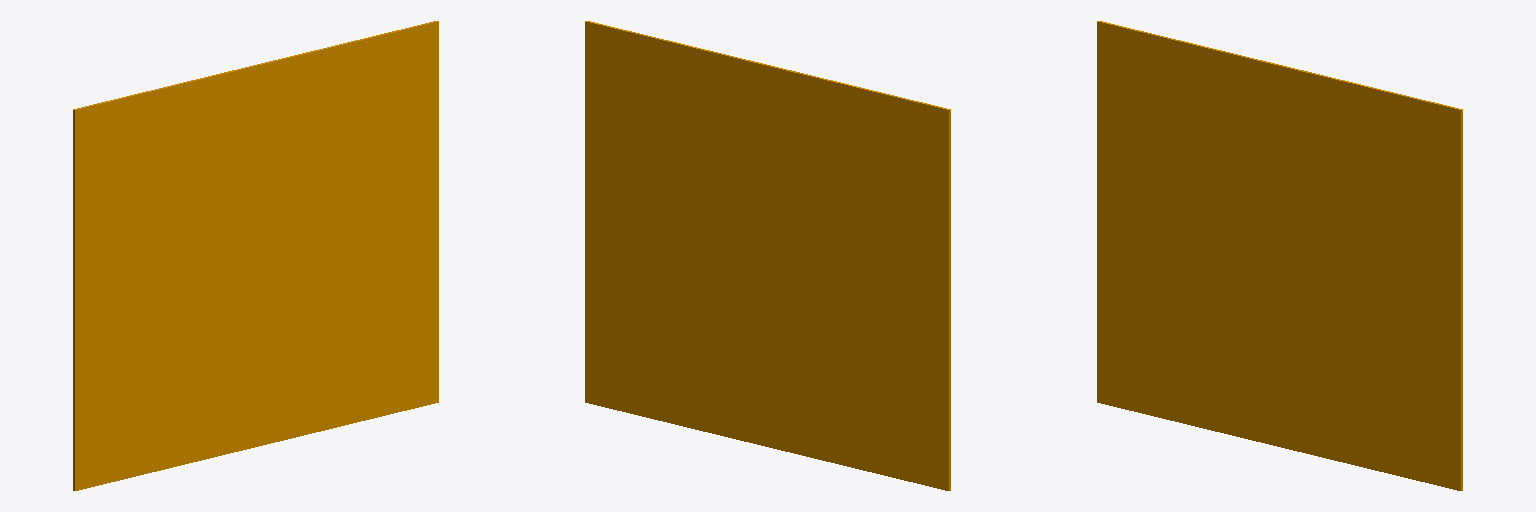
robot.urdf — right_wall:
<?xml version='1.0' encoding='UTF-8'?>
<robot name="right_wall">
  <link name="base_link">
    <inertial>
      <origin xyz="0.0 0.0 0.0" rpy="0.0 -0.0 0.0"/>
      <mass value="1.0"/>
      <inertia ixx="1.0" ixy="0.0" ixz="0.0" iyy="1.0" iyz="0.0" izz="1.0"/>
    </inertial>
    <visual name="base_link_visual">
      <geometry>
        <box size="16 0.1 16"/>
      </geometry>
      <origin xyz="0 0 0" rpy="0 0 3.14159"/>
    </visual>
    <collision name="base_link_collision">
      <geometry>
        <box size="16 0.1 16"/>
      </geometry>
      <origin xyz="0 0 0" rpy="0 0 3.14159"/>
    </collision>
  </link>
</robot>

--- Render facts (derived) ---
Views: 3 orthographic renders of the robot side by side, from view 1: azimuth 30°, elevation 25°; view 2: azimuth 150°, elevation 25°; view 3: azimuth 330°, elevation 25°.
Model right_wall with 1 links and 0 joints (none), rooted at base_link, posed all joints at 0.
Links seen in each view (by area): view 1: base_link; view 2: base_link; view 3: base_link.
Boxes of the visible links, x1=… form: base_link: x1=73, y1=21, x2=438, y2=490; base_link: x1=585, y1=21, x2=950, y2=490; base_link: x1=1097, y1=21, x2=1462, y2=490.
Bounding box of the posed robot: 16 × 0.1 × 16 m (x, y, z).
Geometry: primitives only (box / cylinder / sphere), no mesh files.